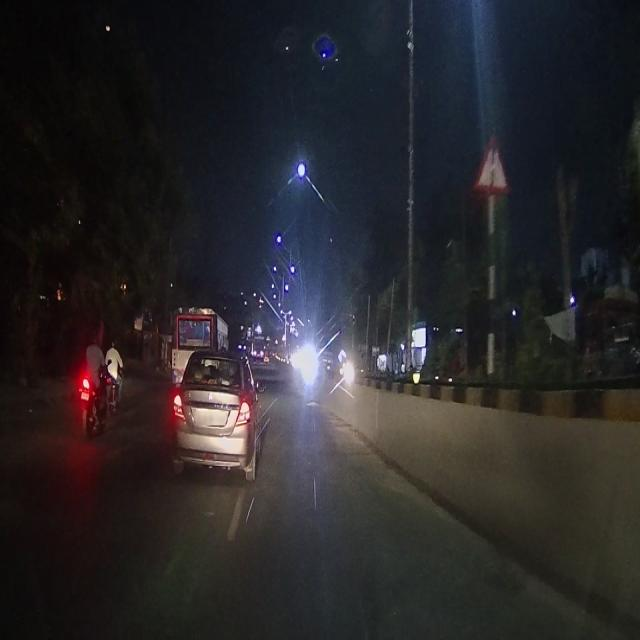gap-in-median: (471, 129, 514, 200)
